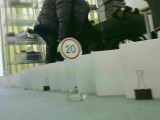speed_20: (58, 35, 83, 61)
